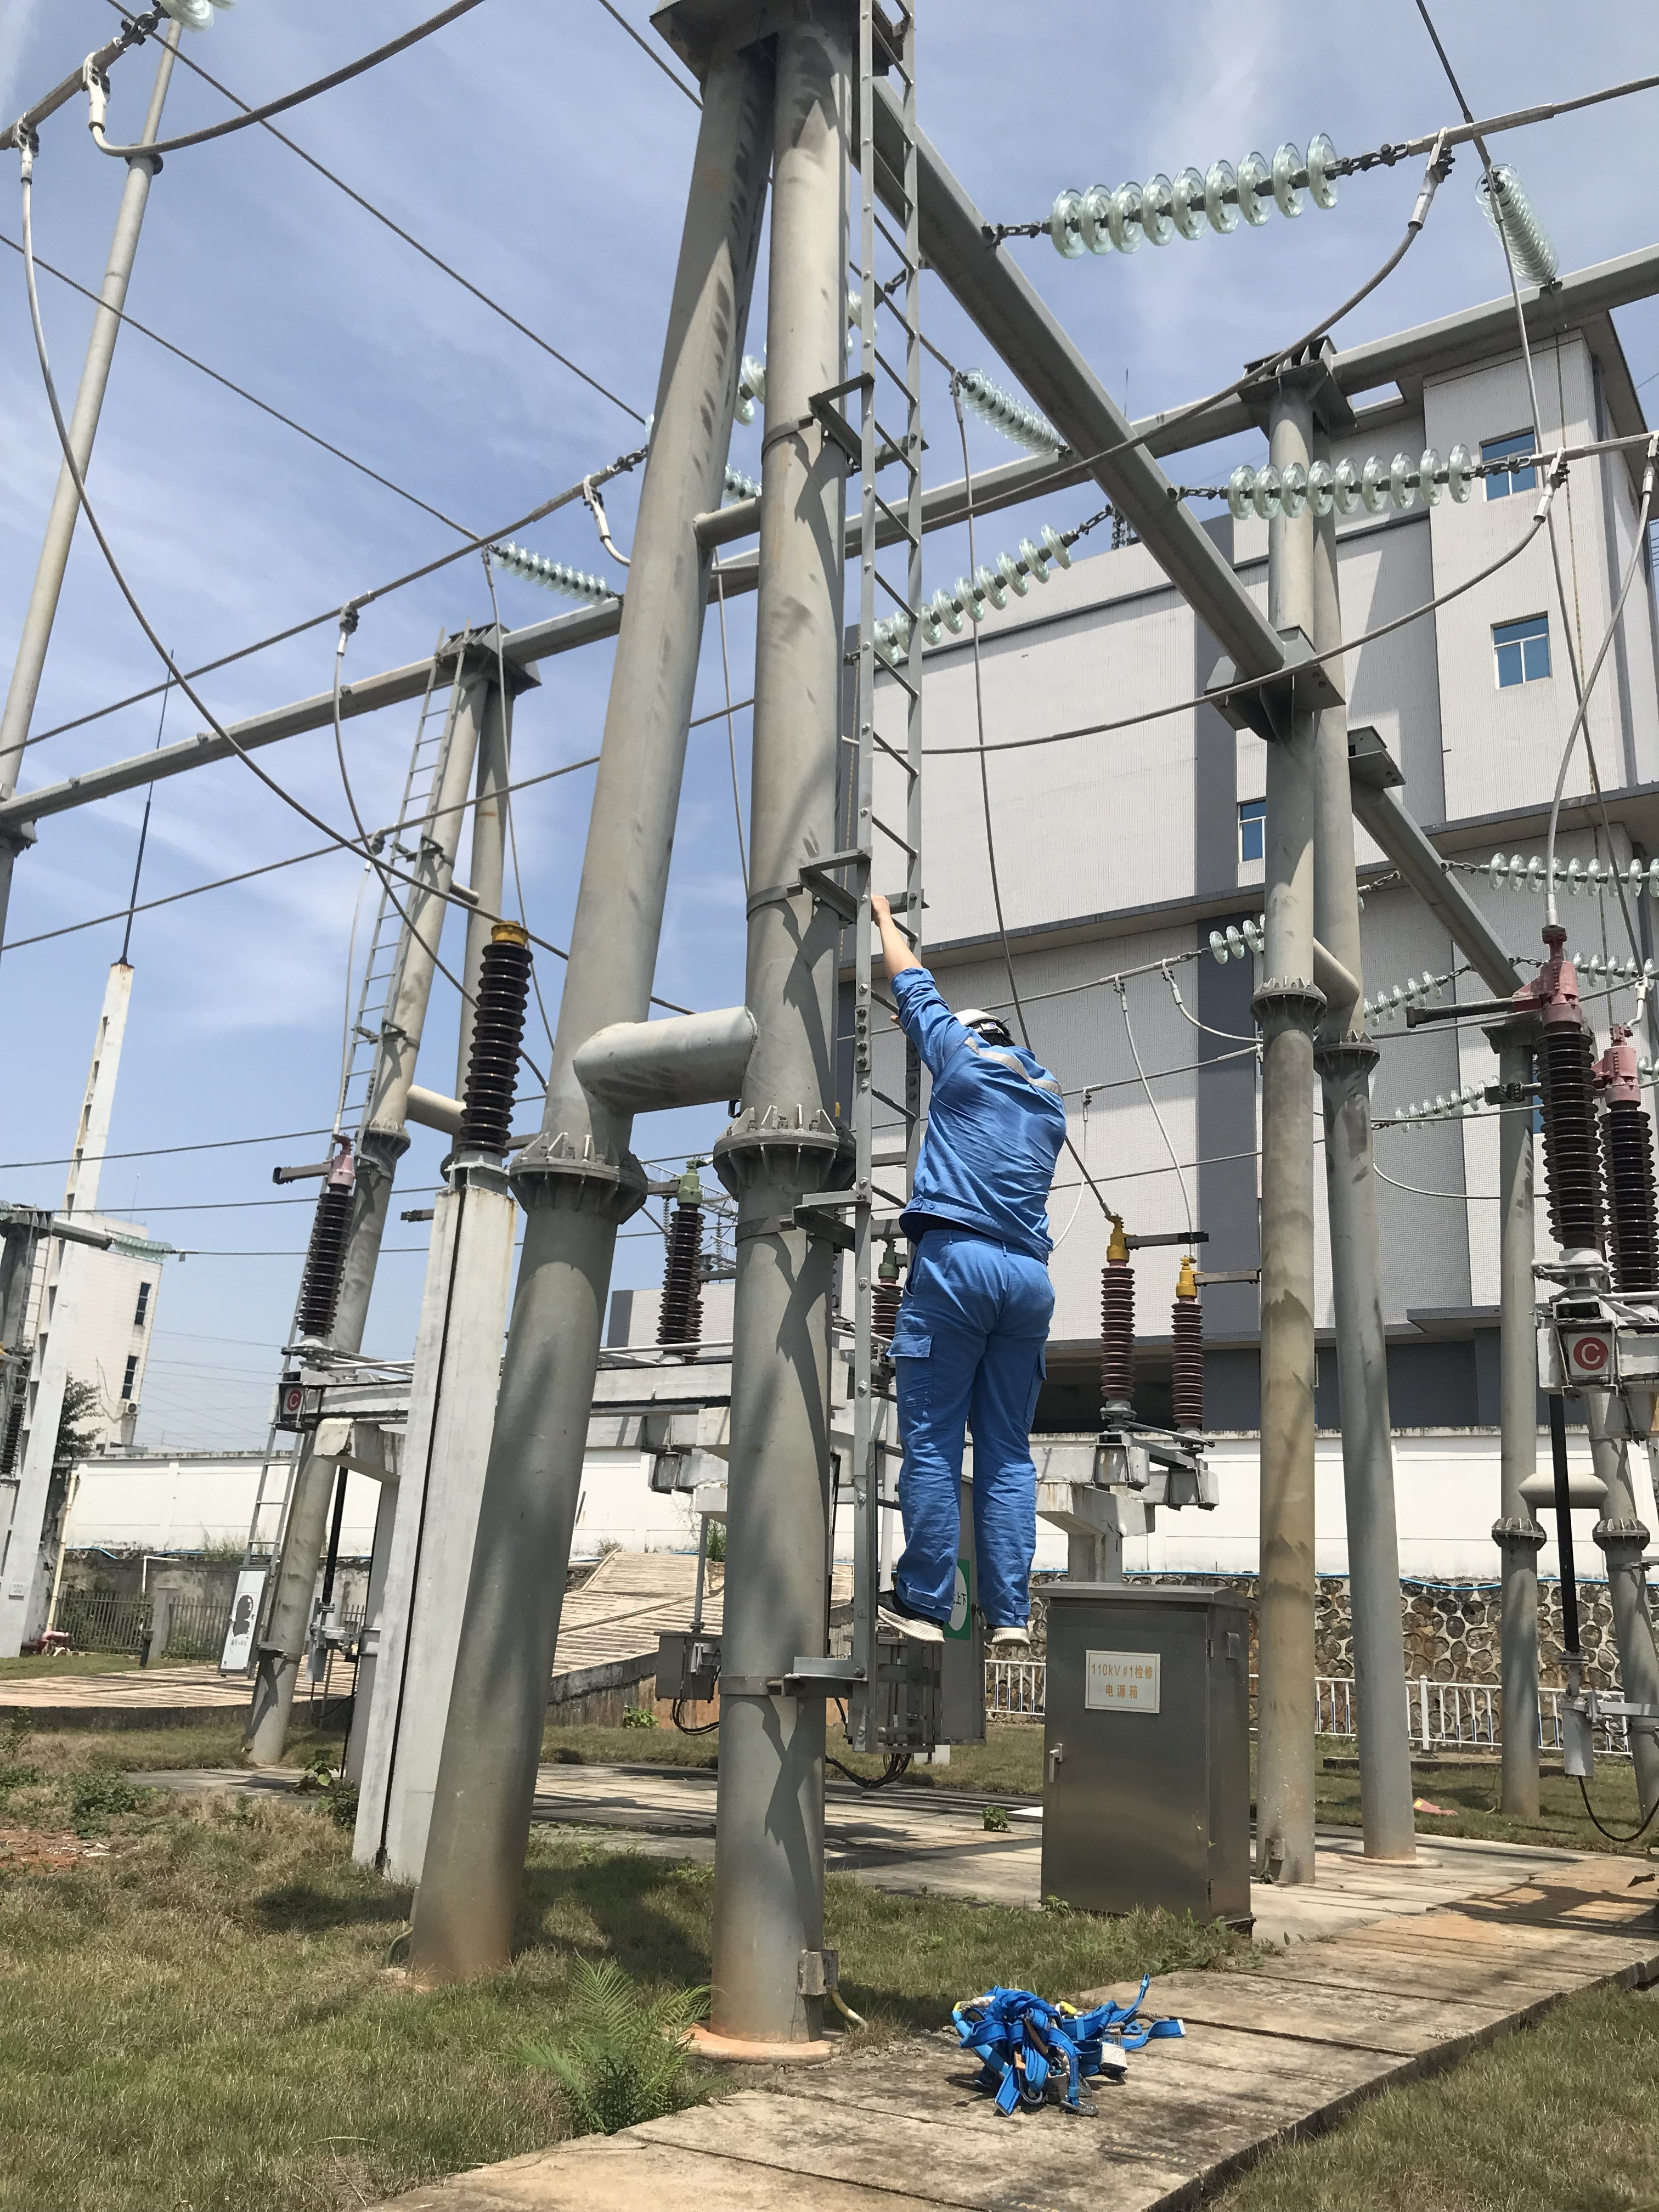downsuit: (877, 1263, 1068, 1629)
upsuit: (897, 984, 1070, 1231)
wrongtop: (880, 923, 934, 1019)
